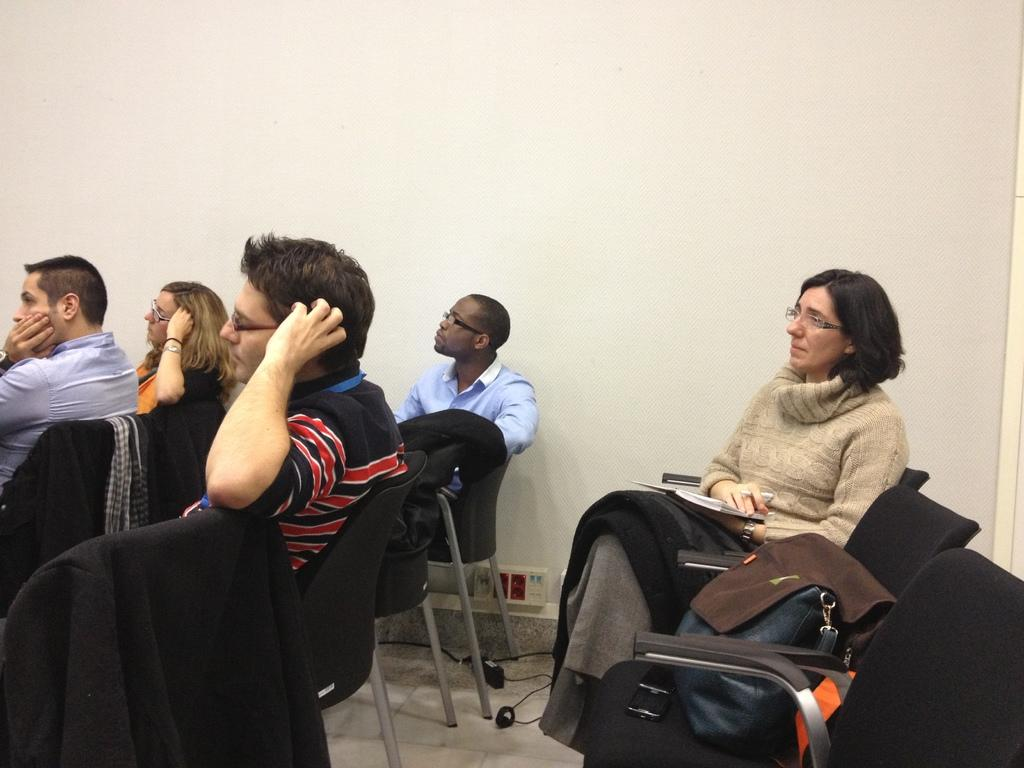Luggage-and-bags: (672, 588, 854, 733)
